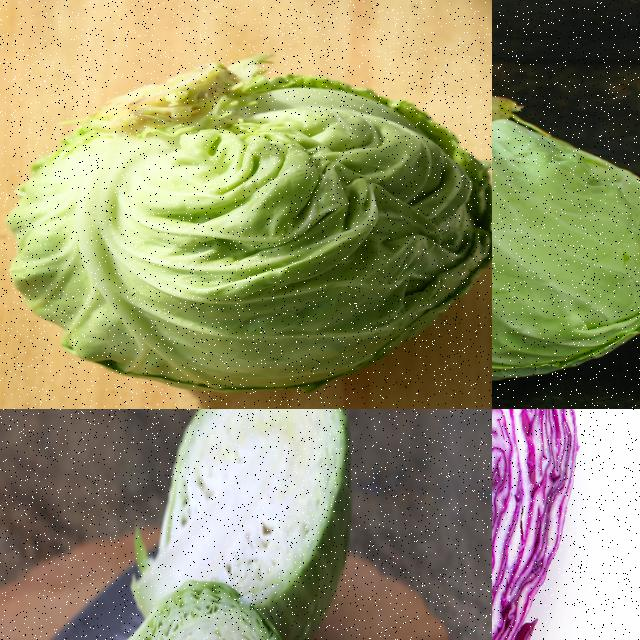cabbage: (0, 47, 491, 396), (128, 409, 356, 639), (492, 80, 639, 388), (492, 409, 578, 639), (78, 581, 317, 639)
